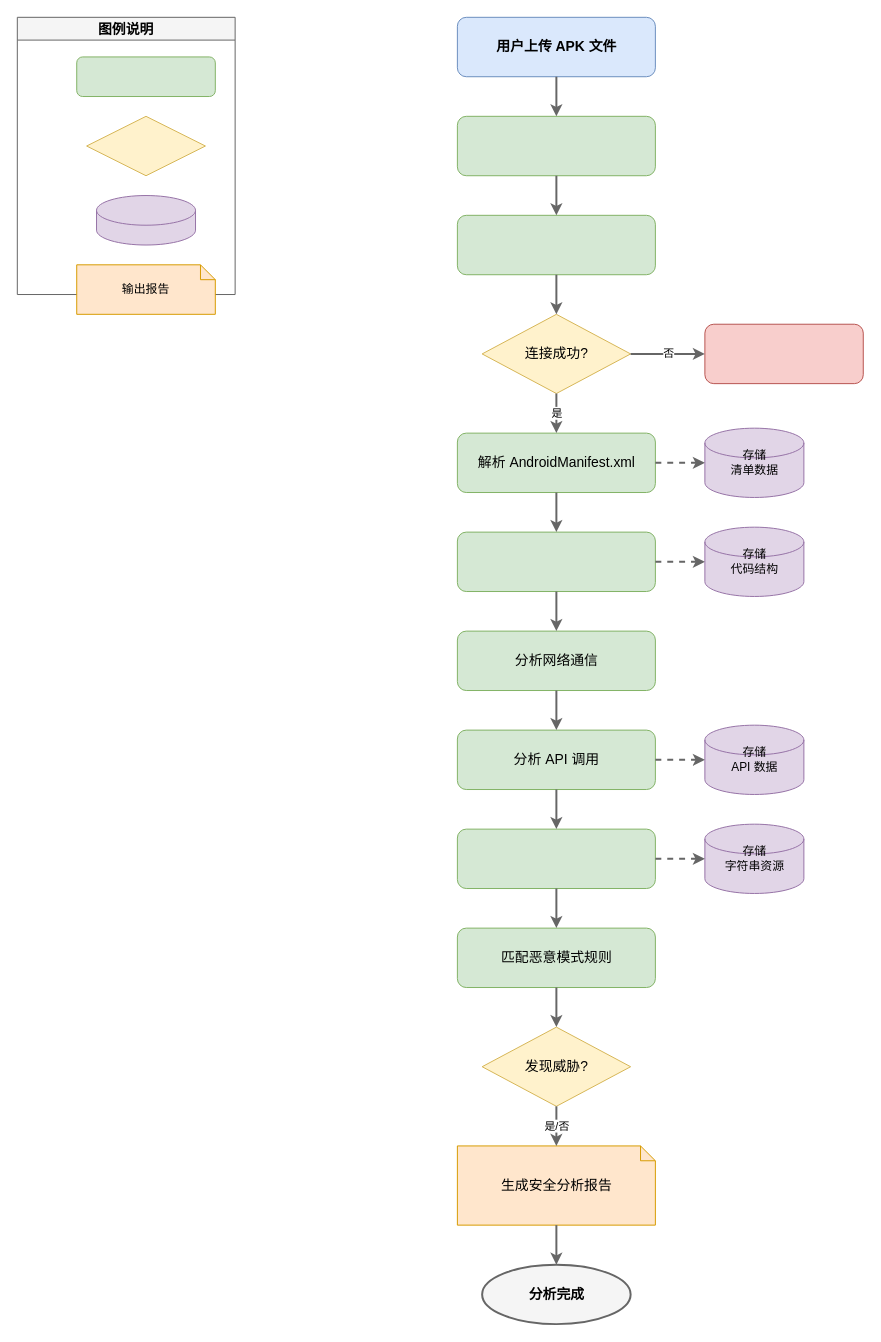
This 881x1342 diagram has some shape labels left out. Here are the shapes that lost their labels. From the top down, the centre of each, then its label:
At point 145,76: "流程步骤".
At point 145,145: "判断/决策".
At point 555,145: "JADX-GUI 自动打开 APK".
At point 146,220: "数据存储".
At point 555,244: "Agent 连接 MCP Server".
At point 783,353: "显示错误信息 终止分析".
At point 555,561: "扫描代码结构".
At point 555,858: "提取字符串资源".
